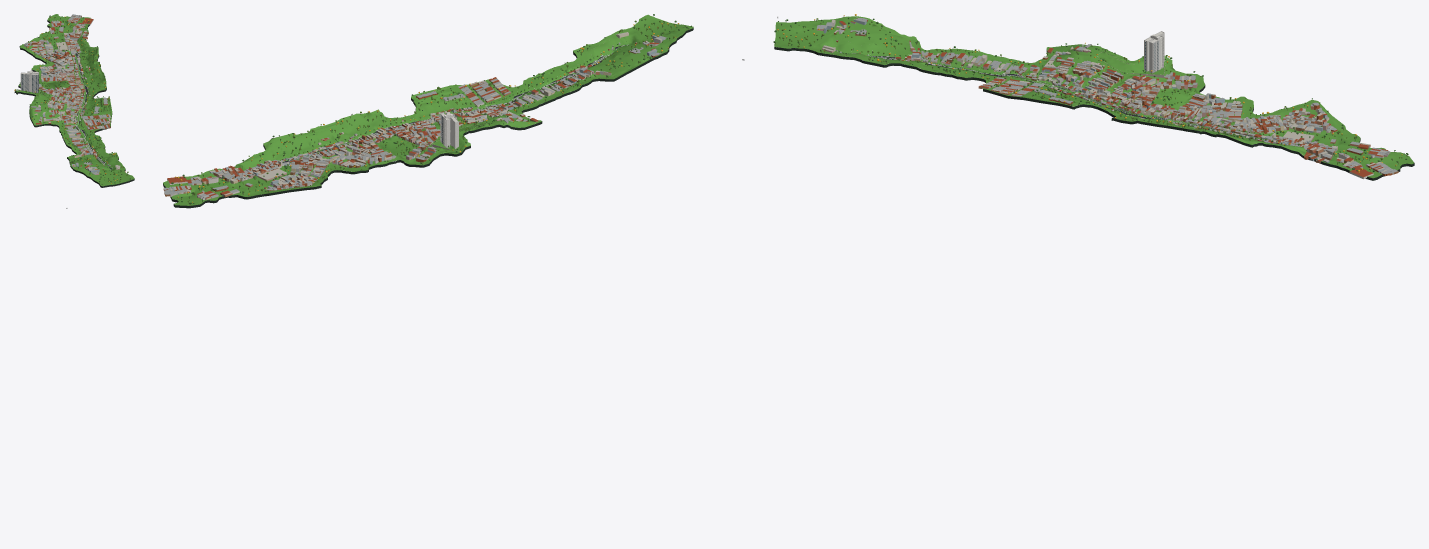
The model's file is veloso.glb.
3 views of the same model, side by side, from view 1: azimuth 30°, elevation 25°; view 2: azimuth 150°, elevation 25°; view 3: azimuth 270°, elevation 25° (orthographic). The views are drawn at different scales.
Parts seen in each view (by area): view 1: Terreno, Casas_existentes, Terreno_hoje, Arvores_bairro, Base_maquete, Arvores, Avenidas; view 2: Terreno, Casas_existentes, Terreno_hoje, Arvores_bairro, Base_maquete; view 3: Terreno, Casas_existentes, Terreno_hoje, Arvores_bairro, Base_maquete.
Part boxes in pixels (x1=…): Terreno: x1=15, y1=14, x2=134, y2=186; Casas_existentes: x1=24, y1=14, x2=110, y2=174; Terreno_hoje: x1=16, y1=39, x2=132, y2=183; Arvores_bairro: x1=14, y1=15, x2=130, y2=184; Base_maquete: x1=14, y1=20, x2=134, y2=187; Arvores: x1=69, y1=51, x2=112, y2=167; Avenidas: x1=74, y1=53, x2=111, y2=169; Terreno: x1=163, y1=14, x2=693, y2=205; Casas_existentes: x1=163, y1=35, x2=666, y2=199; Terreno_hoje: x1=245, y1=16, x2=680, y2=190; Arvores_bairro: x1=171, y1=14, x2=691, y2=204; Base_maquete: x1=163, y1=28, x2=693, y2=208; Terreno: x1=774, y1=16, x2=1413, y2=178; Casas_existentes: x1=816, y1=17, x2=1398, y2=179; Terreno_hoje: x1=774, y1=21, x2=1335, y2=140; Arvores_bairro: x1=773, y1=14, x2=1408, y2=172; Base_maquete: x1=774, y1=47, x2=1414, y2=180.
Size of the model in its own units: 680 by 1089 by 1122.
